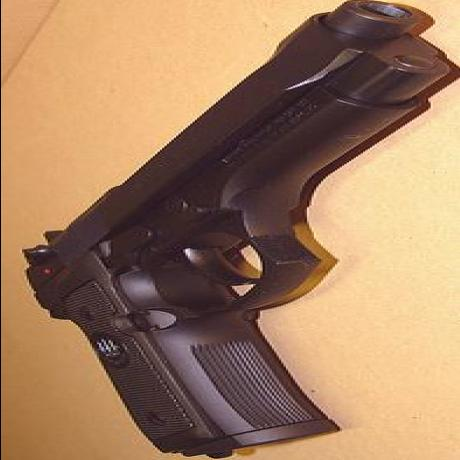weapon: (11, 0, 460, 456)
